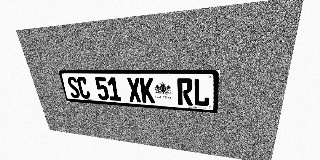1: (106, 77, 121, 101)
5: (94, 77, 110, 100)
C: (76, 77, 91, 99)
K: (140, 78, 155, 103)
L: (193, 78, 210, 107)
R: (177, 78, 193, 106)
S: (66, 77, 81, 98)
X: (126, 77, 142, 102)
